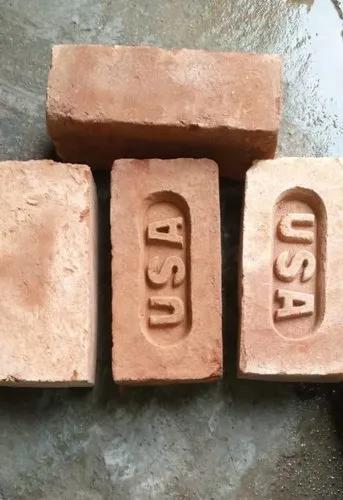brick: (109, 158, 220, 387), (238, 158, 342, 380), (45, 44, 282, 138), (1, 160, 88, 388)
